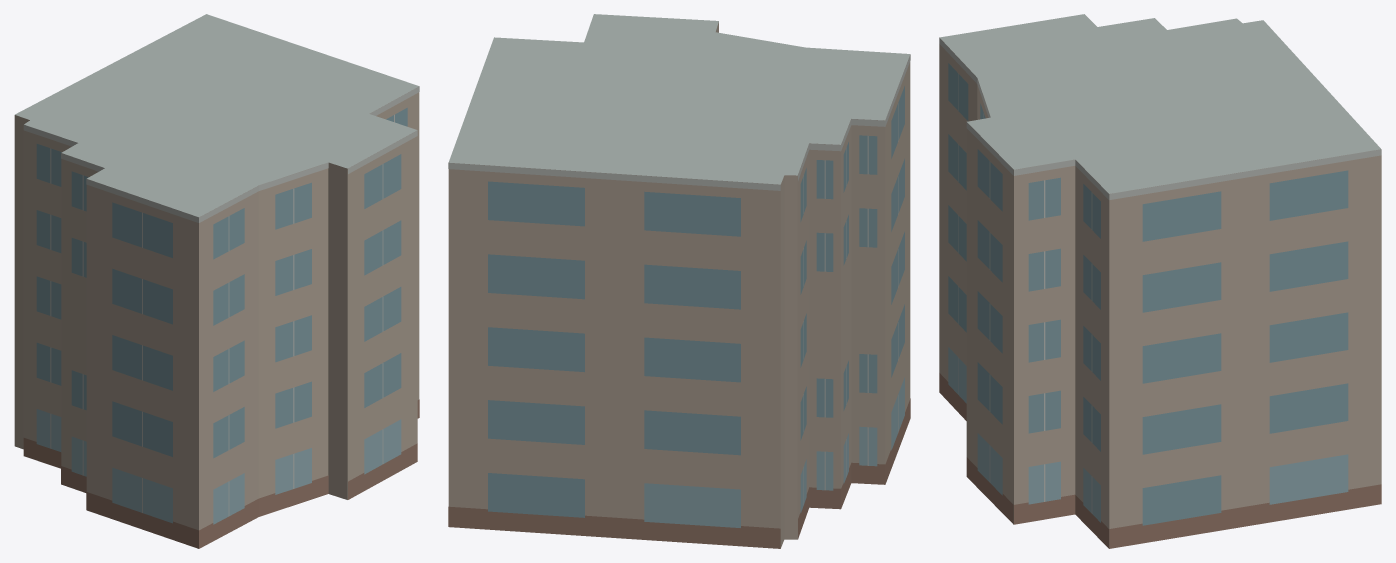
Rendered from survey-upis-32804038.glb.
3 views of the same model, side by side, from view 1: azimuth 30°, elevation 25°; view 2: azimuth 150°, elevation 25°; view 3: azimuth 270°, elevation 25° (orthographic). The views are drawn at different scales.
Visible parts, largest first — view 1: survey-upis-32804038.tmp; view 2: survey-upis-32804038.tmp; view 3: survey-upis-32804038.tmp.
Boxes of the visible parts, x1=… form: survey-upis-32804038.tmp: x1=14, y1=14, x2=419, y2=548; survey-upis-32804038.tmp: x1=448, y1=14, x2=910, y2=548; survey-upis-32804038.tmp: x1=939, y1=14, x2=1381, y2=548.
Size of the model in its own units: 15.17 by 13.94 by 15.75.
